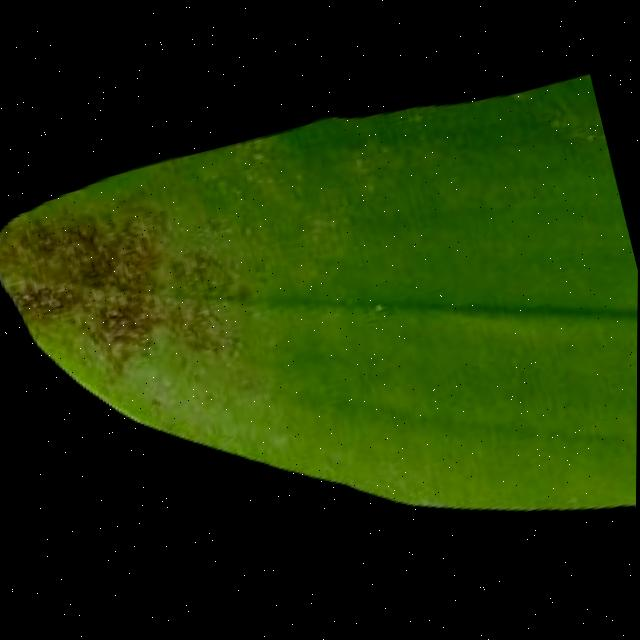mite: (39, 202, 177, 364), (142, 234, 266, 371), (159, 289, 240, 370)
sunburn: (0, 161, 267, 412)
